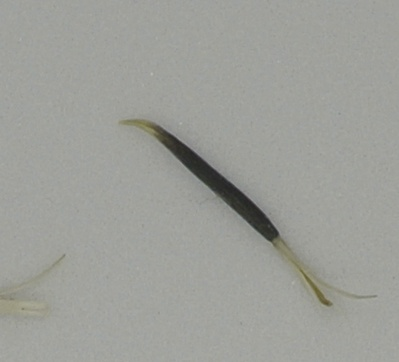เมล็ดดีเรียวยาว: (112, 114, 381, 310)
